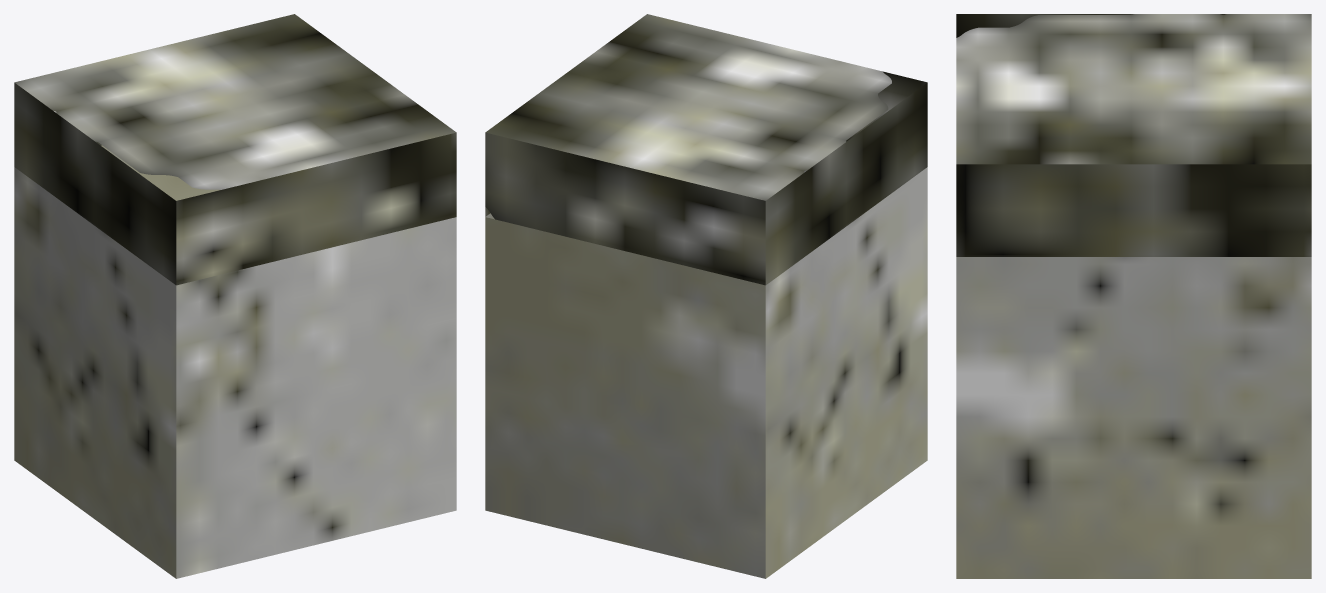
Rendered from lamp.obj.
3 renders of one model, left to right at view 1: azimuth 30°, elevation 25°; view 2: azimuth 150°, elevation 25°; view 3: azimuth 270°, elevation 25°, orthographic. The views are drawn at different scales.
Visible parts, largest first — view 1: Cube; view 2: Cube; view 3: Cube.
Part boxes in pixels (<box>): Cube: <box>14,14,456,578</box>; Cube: <box>485,14,927,578</box>; Cube: <box>956,14,1311,578</box>.
Size of the model in its own units: 2 by 2.58 by 2.
